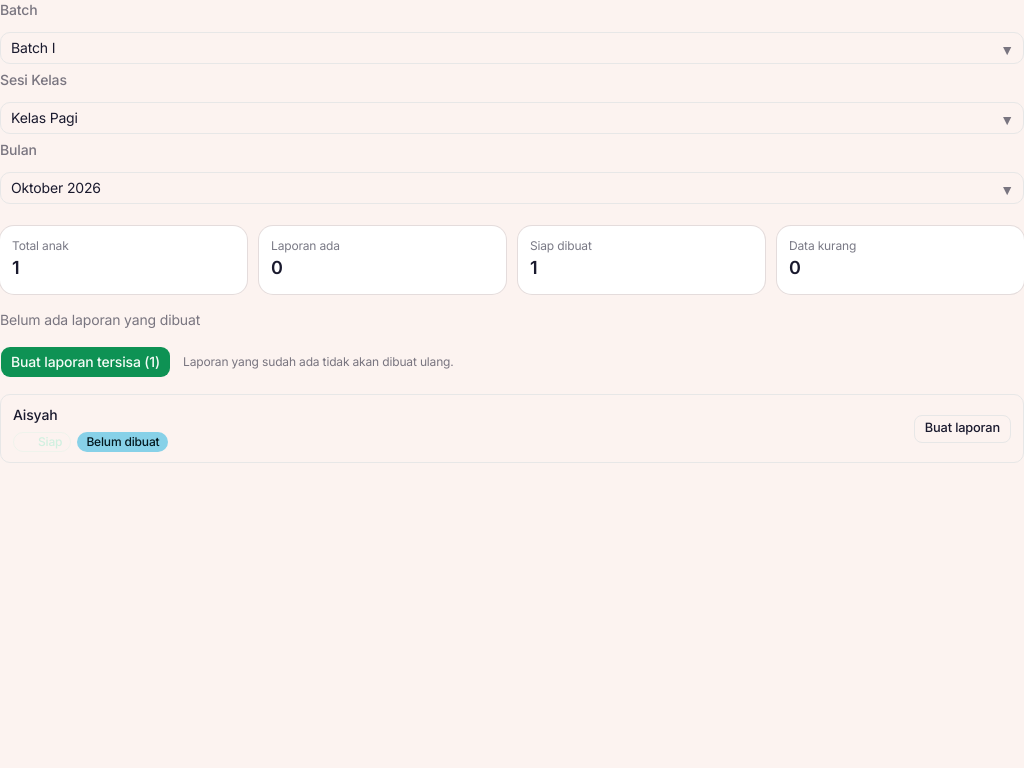
Test: MonthlyReportClient batch generation › offers a per-child retry for a failed child only
This screenshot has width=1024, height=768.
Click the button "Buat laporan tersisa (1)": click(86, 362) [0, 346, 171, 378]
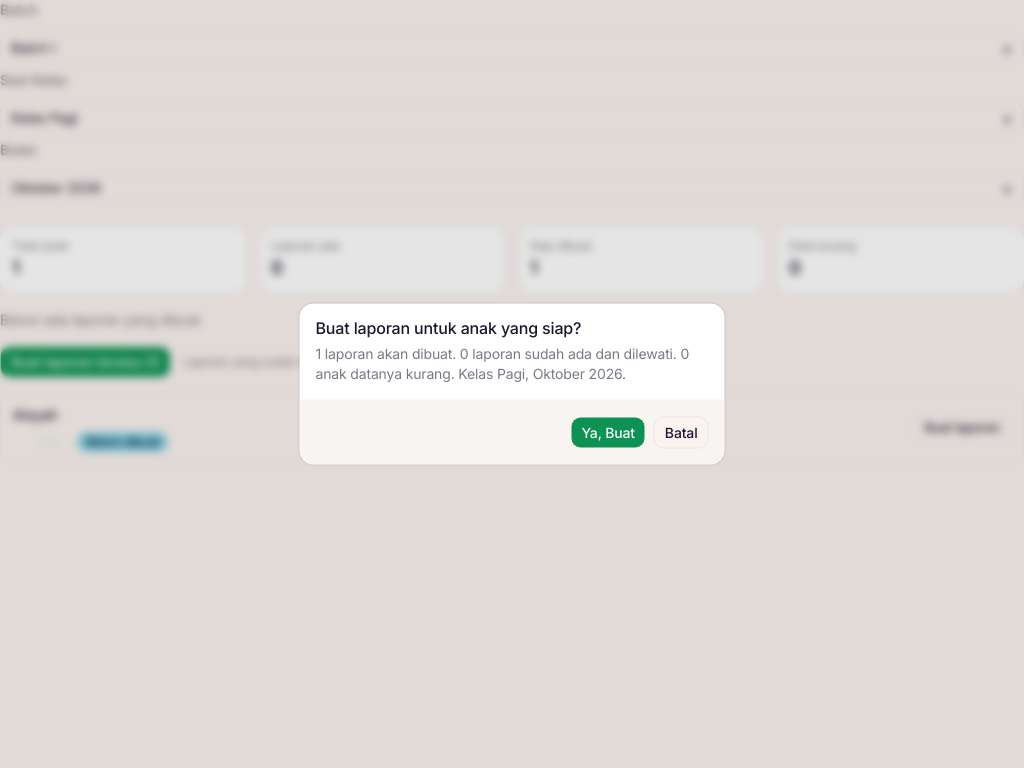
Click the button "Ya, Buat": click(608, 432) [570, 416, 646, 448]
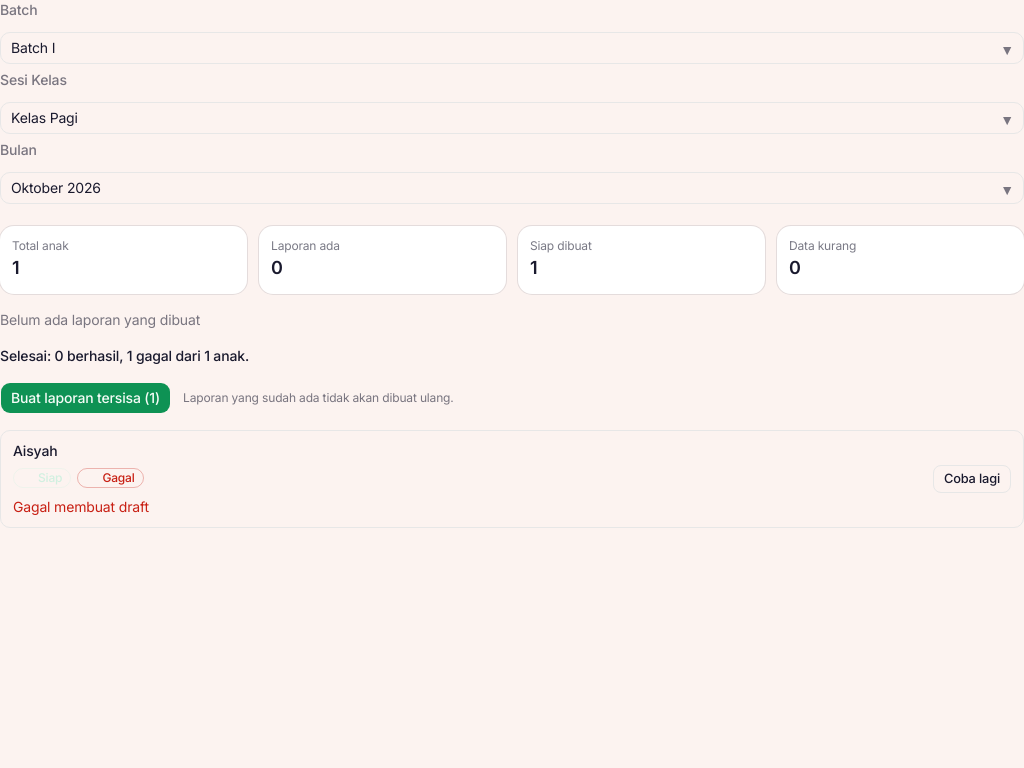
expect the button "Coba lagi" is shown: met
Click the button "Coba lagi": click(972, 479) [933, 465, 1011, 493]
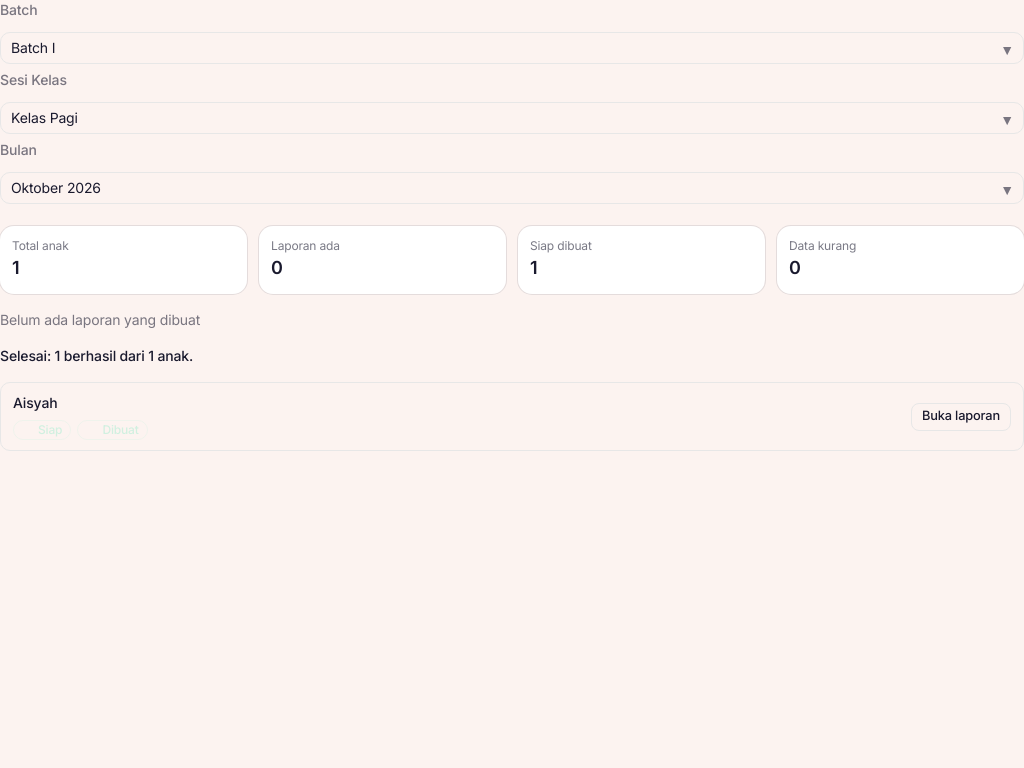
expect the text "Selesai: 1 berhasil dari 1 anak." is shown: met, box [0, 347, 193, 364]
